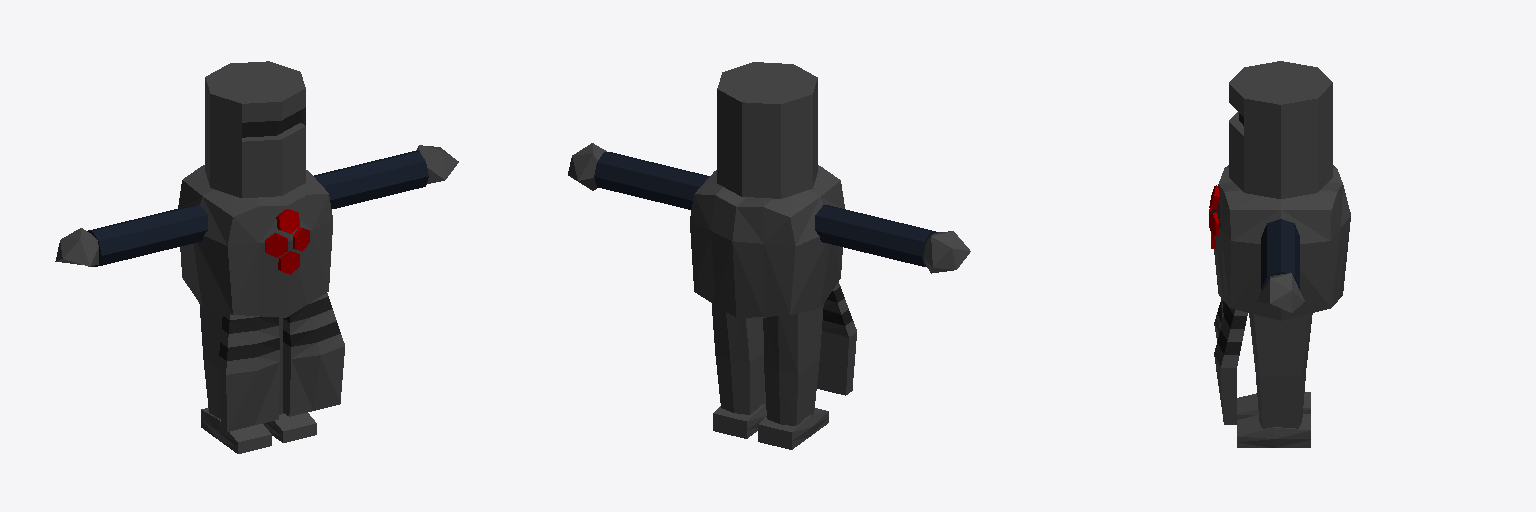
Rendered from knight.obj.
3 renders of one model, left to right at view 1: azimuth 30°, elevation 25°; view 2: azimuth 150°, elevation 25°; view 3: azimuth 270°, elevation 25°, orthographic.
Visible parts, largest first — view 1: Cube; view 2: Cube; view 3: Cube.
Boxes of the visible parts, box(x1,y1,x2,y2) form: Cube: box(55, 61, 458, 453); Cube: box(568, 62, 970, 449); Cube: box(1209, 61, 1350, 447).
Size of the model in its own units: 7.03 by 5.86 by 2.19.